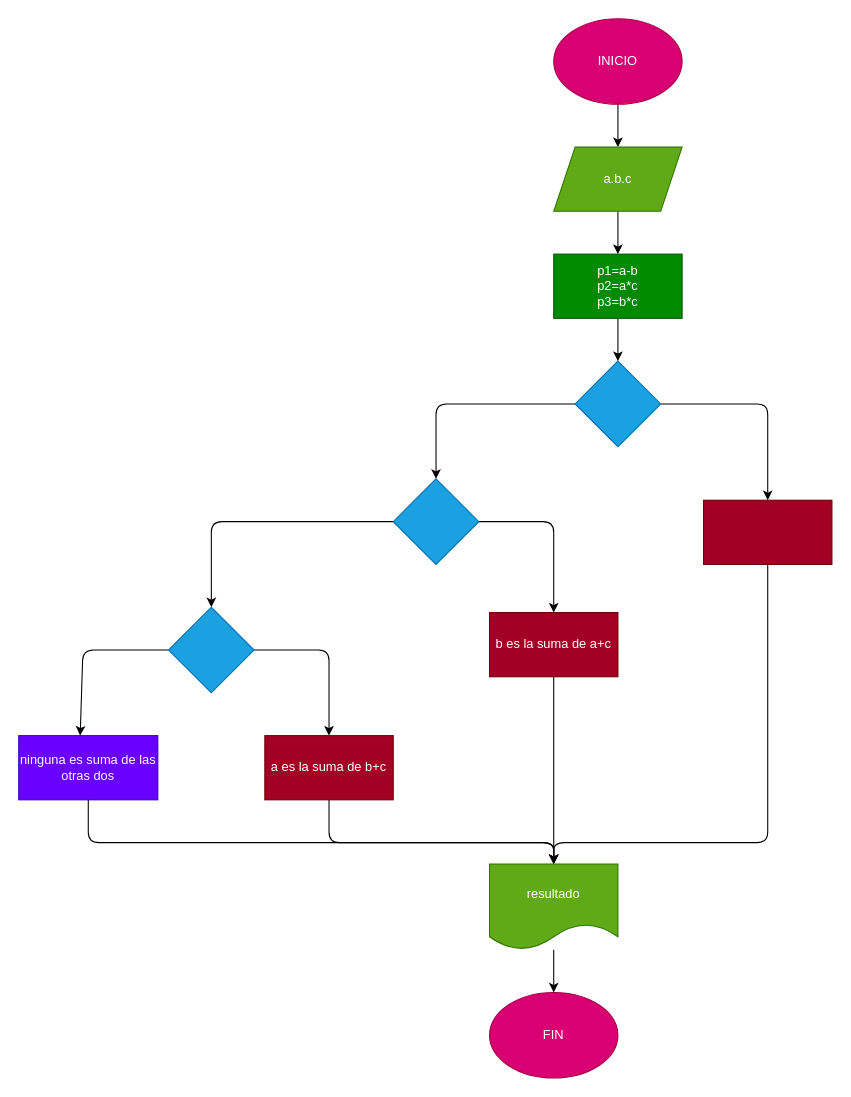
The diagram is 851 pixels wide and 1097 high, and some of its shapes have lost their labels. Here are the shapes that lost their labels. From the top down, the centre of each, then its label:
At [617,403]: "p1=c".
At [435,521]: "p2=b".
At [767,531]: "c es la suma de a-b".
At [210,649]: "p3=a".
